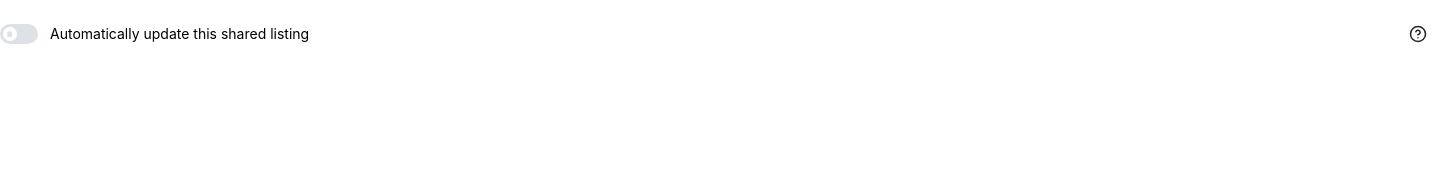
Test: automatic registry update setting › saves an explicit opt-in and opt-out, using the server-confirmed setting
Click the switch labelled "Automatically update this shared listing" at coordinates (155, 34), box [0,24,309,44]
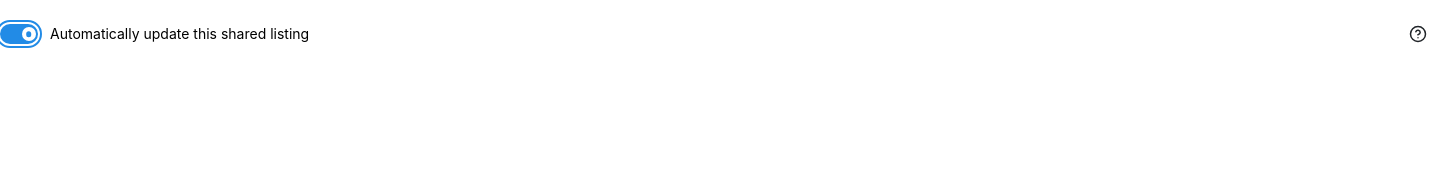
Expected: the switch labelled "Automatically update this shared listing" is checked
Click the switch labelled "Automatically update this shared listing" at coordinates (155, 34), box [0,24,309,44]
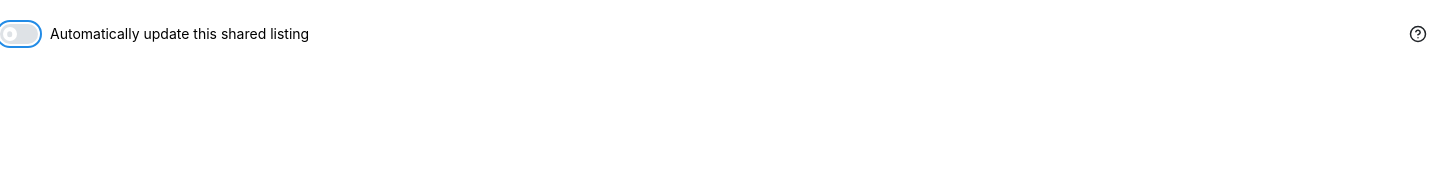
Expected: the switch labelled "Automatically update this shared listing" is not checked, [0,24,309,44]
